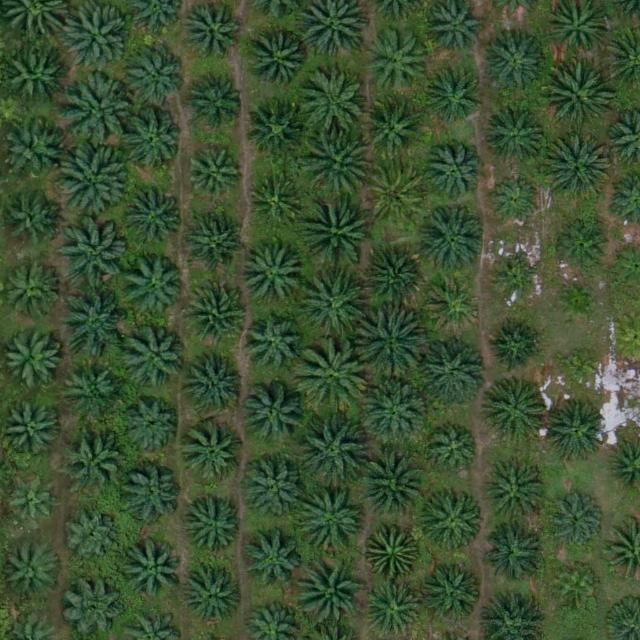Kelapa_Sawit: (295, 270, 365, 341), (360, 375, 430, 446), (301, 192, 371, 263), (300, 128, 370, 199), (56, 287, 126, 357), (294, 552, 364, 622), (298, 487, 368, 557), (297, 414, 367, 484), (296, 341, 366, 411), (352, 309, 422, 379), (355, 447, 425, 517), (416, 334, 486, 404), (540, 132, 610, 202), (541, 62, 611, 132), (416, 203, 486, 273), (297, 70, 367, 140), (60, 217, 130, 287), (55, 145, 125, 215), (64, 72, 134, 142), (58, 1, 128, 71), (0, 324, 62, 387), (60, 357, 122, 420), (62, 426, 124, 489), (61, 575, 123, 638), (120, 253, 182, 316), (124, 537, 186, 600), (180, 564, 242, 627), (182, 421, 244, 484), (182, 281, 244, 344), (243, 313, 305, 376), (242, 381, 304, 444), (239, 529, 301, 592), (421, 563, 483, 626), (420, 486, 482, 549), (484, 463, 546, 526), (483, 520, 545, 583), (541, 399, 603, 462), (482, 33, 544, 96), (483, 103, 545, 166), (422, 140, 484, 203), (363, 26, 425, 89), (361, 95, 423, 158), (184, 211, 246, 274), (120, 106, 182, 169), (119, 185, 181, 248), (7, 48, 69, 111), (124, 327, 186, 389), (118, 463, 180, 525), (182, 493, 244, 555), (187, 350, 249, 412), (239, 244, 301, 306), (241, 455, 303, 517), (362, 247, 424, 309), (482, 377, 544, 439), (365, 163, 427, 225), (247, 27, 309, 89), (247, 98, 309, 160), (186, 67, 248, 129), (124, 45, 186, 107), (5, 540, 60, 595), (64, 509, 119, 564), (366, 579, 421, 634), (486, 174, 541, 229), (426, 69, 481, 124), (425, 1, 480, 56), (246, 173, 301, 228), (185, 149, 240, 204), (3, 191, 58, 246), (425, 277, 479, 332), (1, 473, 55, 528), (123, 397, 177, 452), (365, 522, 419, 577), (428, 423, 482, 478), (487, 317, 541, 372), (548, 490, 602, 545), (552, 219, 606, 274), (552, 277, 598, 324), (555, 344, 601, 391), (494, 258, 540, 304), (553, 561, 599, 607)
